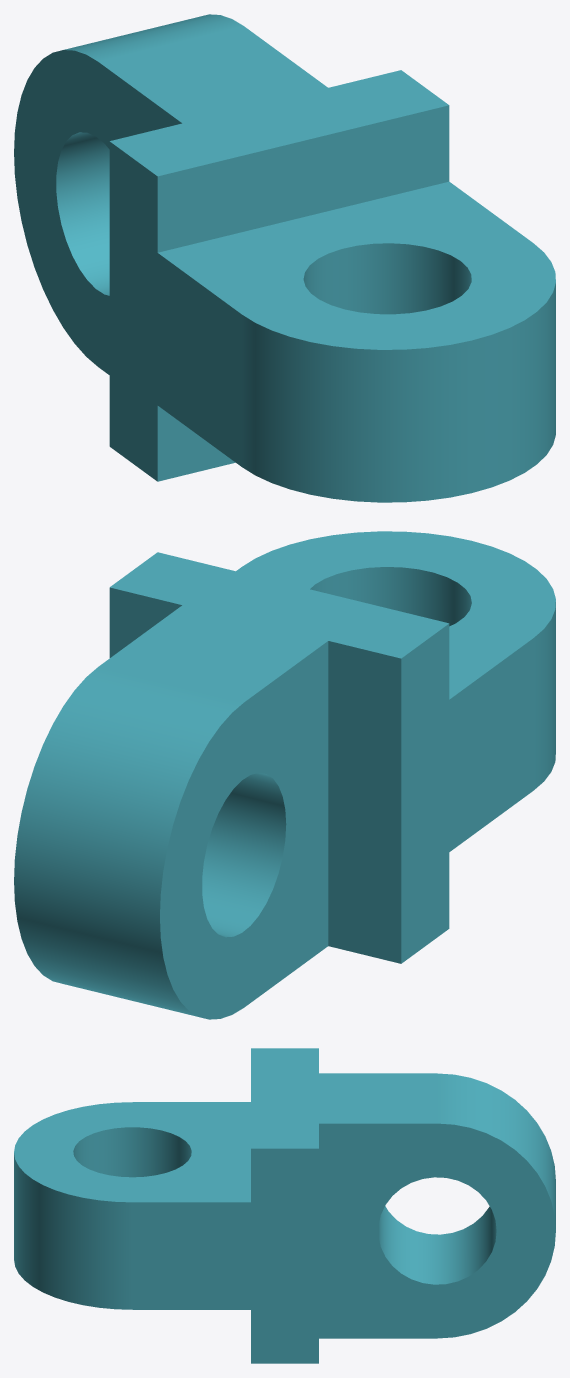
The picture shows the model from 3 angles, top to bottom: view 1: azimuth 30°, elevation 25°; view 2: azimuth 150°, elevation 25°; view 3: azimuth 270°, elevation 25°; orthographic projection. The views are drawn at different scales.
Visible parts, largest first — view 1: Solid1; view 2: Solid1; view 3: Solid1.
Boxes of the visible parts, box(x1,y1,x2,y2) form: Solid1: box(14, 14, 555, 502); Solid1: box(14, 531, 555, 1019); Solid1: box(14, 1048, 555, 1363).
Bounding box in the file's own units: 0.028 × 0.028 × 0.064.
